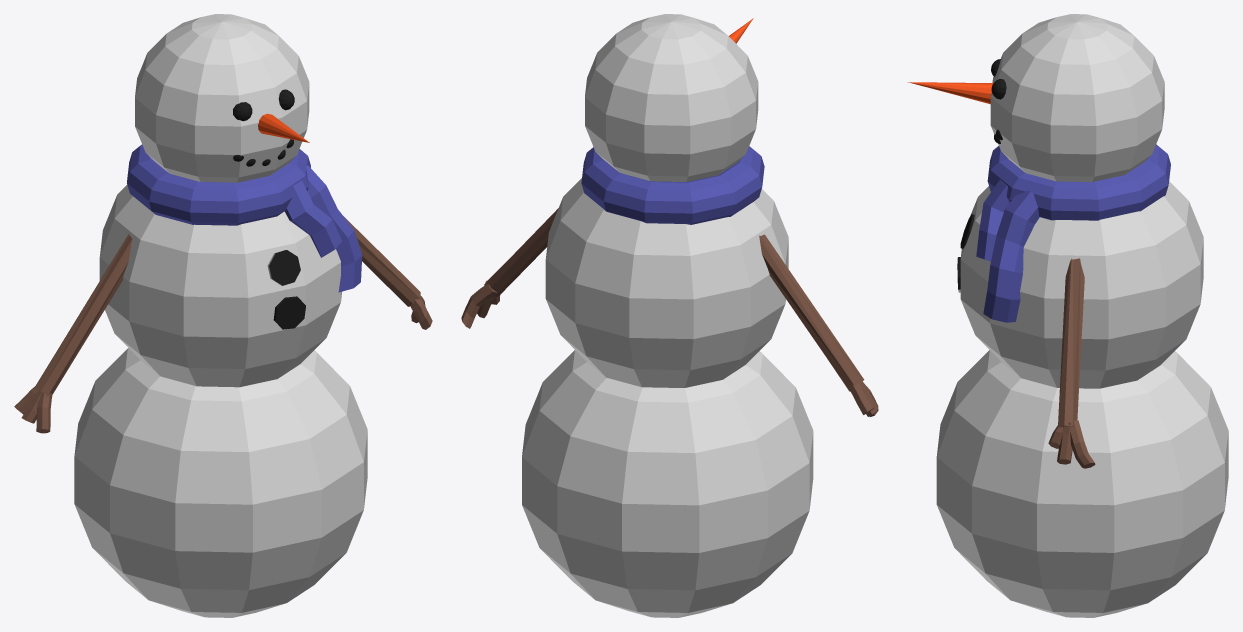
File: Congelar.fbx
The picture shows the model from 3 angles, left to right: view 1: azimuth 30°, elevation 25°; view 2: azimuth 150°, elevation 25°; view 3: azimuth 270°, elevation 25°; orthographic projection.
Visible parts, largest first — view 1: group1522281990, group396693100, group818336702, group708977906, group62286769, group927813173, group53042870, group148953620, group1167757391, group1268708625, group1128189315; view 2: group1522281990, group396693100, group818336702, group708977906, group62286769, group148953620, group1901817716; view 3: group1522281990, group396693100, group818336702, group708977906, group927813173, group148953620, group53042870, group1128189315, group1901817716, group1643572436.
Boxes of the visible parts, x1,y1,x2,y2 form: group1522281990: (74, 348, 367, 617); group396693100: (99, 185, 341, 387); group818336702: (135, 14, 309, 182); group708977906: (127, 144, 310, 225); group62286769: (35, 233, 132, 395); group927813173: (305, 165, 362, 292); group53042870: (284, 180, 341, 257); group148953620: (343, 216, 420, 306); group1167757391: (267, 250, 300, 285); group1268708625: (273, 296, 305, 329); group1128189315: (258, 113, 309, 142); group1522281990: (522, 350, 813, 617); group396693100: (545, 178, 788, 387); group818336702: (585, 14, 758, 181); group708977906: (581, 146, 764, 224); group62286769: (759, 234, 864, 391); group148953620: (484, 208, 558, 297); group1901817716: (461, 284, 497, 328); group1522281990: (936, 350, 1228, 617); group396693100: (960, 181, 1203, 388); group818336702: (990, 14, 1164, 182); group708977906: (987, 144, 1170, 220); group927813173: (983, 190, 1039, 322); group148953620: (1058, 258, 1084, 427); group53042870: (976, 180, 1009, 261); group1128189315: (907, 82, 993, 104); group1901817716: (1070, 420, 1095, 468); group1643572436: (1057, 422, 1073, 464).
Bounding box in the file's own units: 742 × 1011 × 505.
